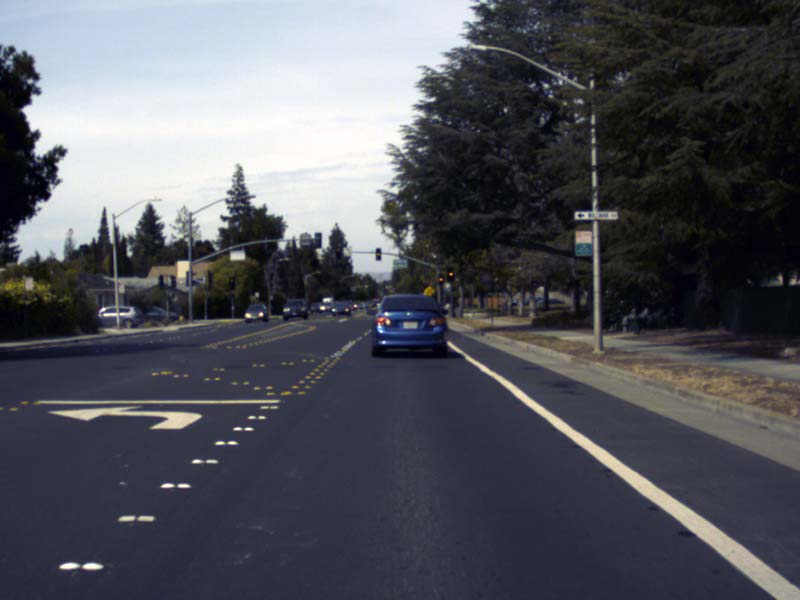Red: (336, 247, 341, 258), (229, 277, 233, 288)
Yellow: (447, 267, 453, 280), (438, 274, 443, 285), (376, 248, 380, 259)
